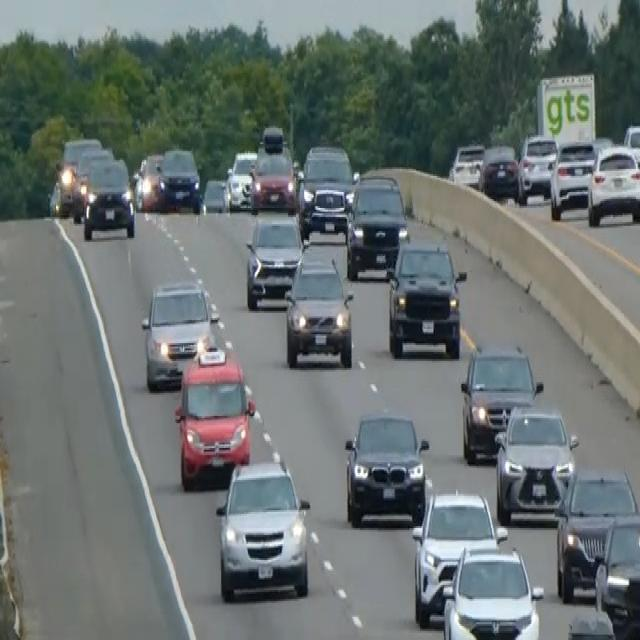car: (411, 487, 507, 628), (174, 343, 255, 489), (554, 464, 638, 603), (493, 402, 578, 524), (459, 341, 543, 464), (441, 540, 544, 638), (343, 409, 429, 526), (140, 277, 220, 391), (283, 250, 354, 370), (345, 173, 409, 279), (593, 510, 639, 638), (244, 210, 303, 309), (297, 142, 355, 236), (82, 156, 135, 240), (586, 142, 639, 226), (549, 137, 597, 219), (54, 135, 102, 213), (71, 146, 113, 220), (157, 144, 201, 212), (517, 132, 558, 202), (303, 182, 353, 238), (477, 142, 520, 201), (133, 151, 164, 212), (226, 149, 256, 210), (563, 606, 619, 638), (448, 140, 484, 188), (201, 176, 227, 213), (623, 123, 639, 169)
jeep: (213, 452, 312, 602), (385, 237, 467, 359)
